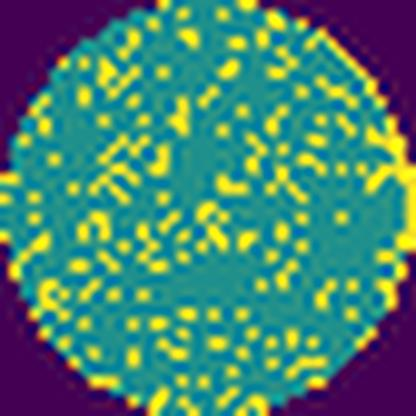Edge-Loc: (360, 103, 415, 268), (306, 26, 391, 116)
